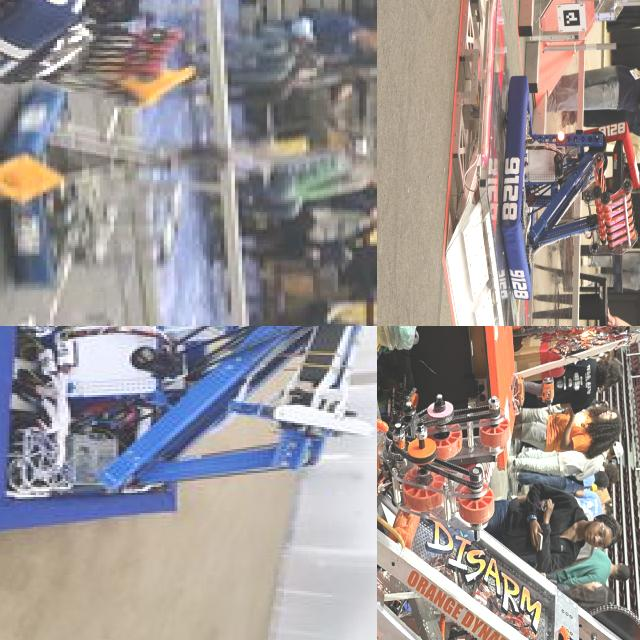FRC-Robots: (0, 326, 377, 560), (377, 326, 640, 640), (492, 50, 640, 325), (0, 97, 194, 299), (0, 0, 210, 126)
